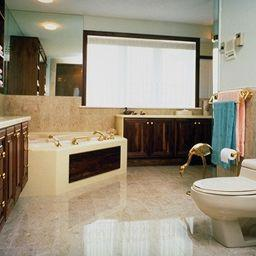Otro Obstaculo: (174, 140, 215, 178)
Sanitario: (187, 160, 255, 245)
